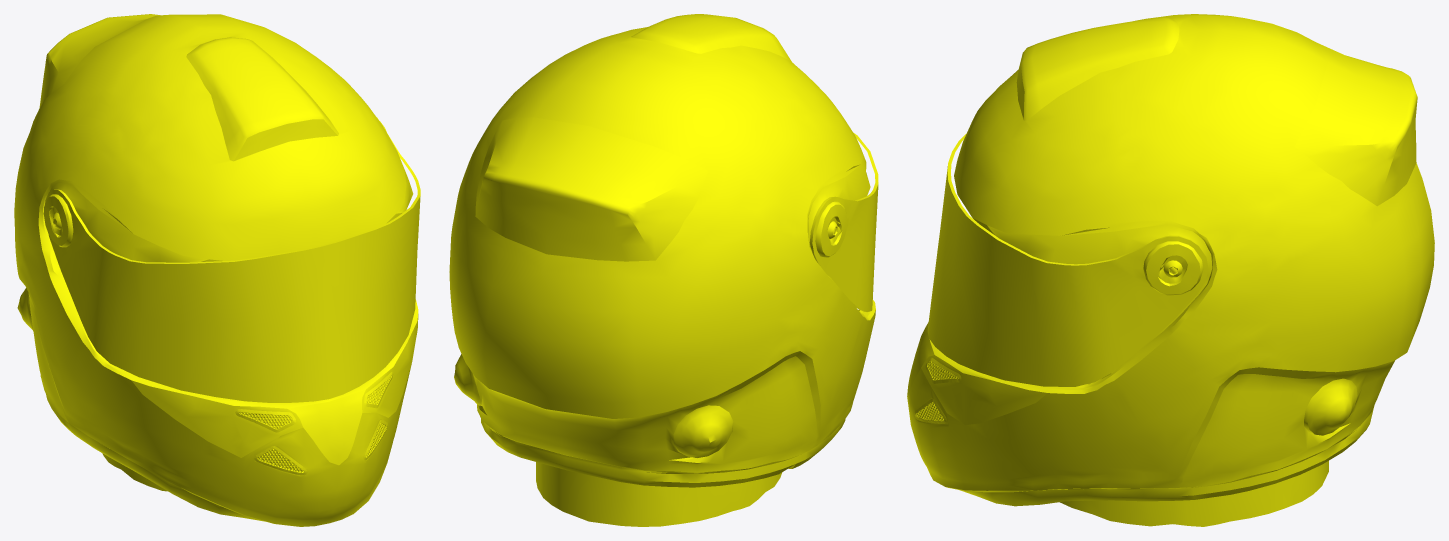
File: F1PS_Helmet.glb
3 renders of one model, left to right at view 1: azimuth 30°, elevation 25°; view 2: azimuth 150°, elevation 25°; view 3: azimuth 270°, elevation 25°, orthographic. The views are drawn at different scales.
Parts seen in each view (by area): view 1: Helmet_main_low, Visor_low, vents_low; view 2: Helmet_main_low, Visor_low; view 3: Helmet_main_low, Visor_low, vents_low.
Boxes of the visible parts, bbox=[...] form: Helmet_main_low: bbox=[14, 14, 418, 526]; Visor_low: bbox=[43, 117, 420, 402]; vents_low: bbox=[235, 372, 393, 475]; Helmet_main_low: bbox=[449, 14, 875, 526]; Visor_low: bbox=[809, 133, 878, 311]; Helmet_main_low: bbox=[907, 14, 1434, 526]; Visor_low: bbox=[927, 133, 1208, 386]; vents_low: bbox=[914, 357, 961, 423].
Bounding box in the file's own units: 1.9 × 2.23 × 2.38.
Materials: 1 (1 with a texture image).
